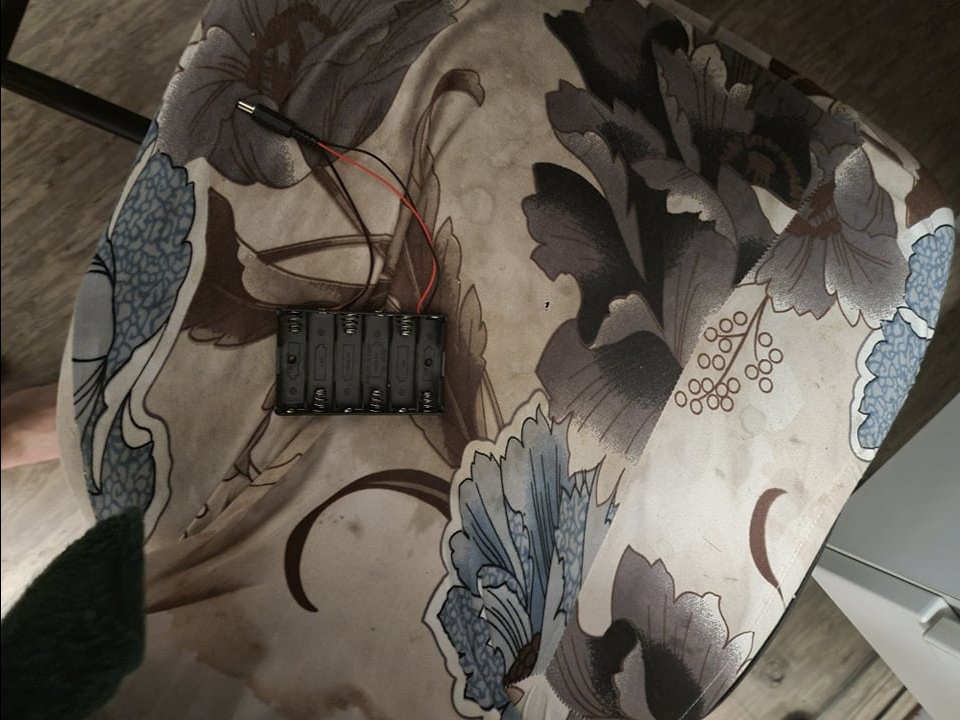BATTERY BOX: (268, 306, 453, 416)
